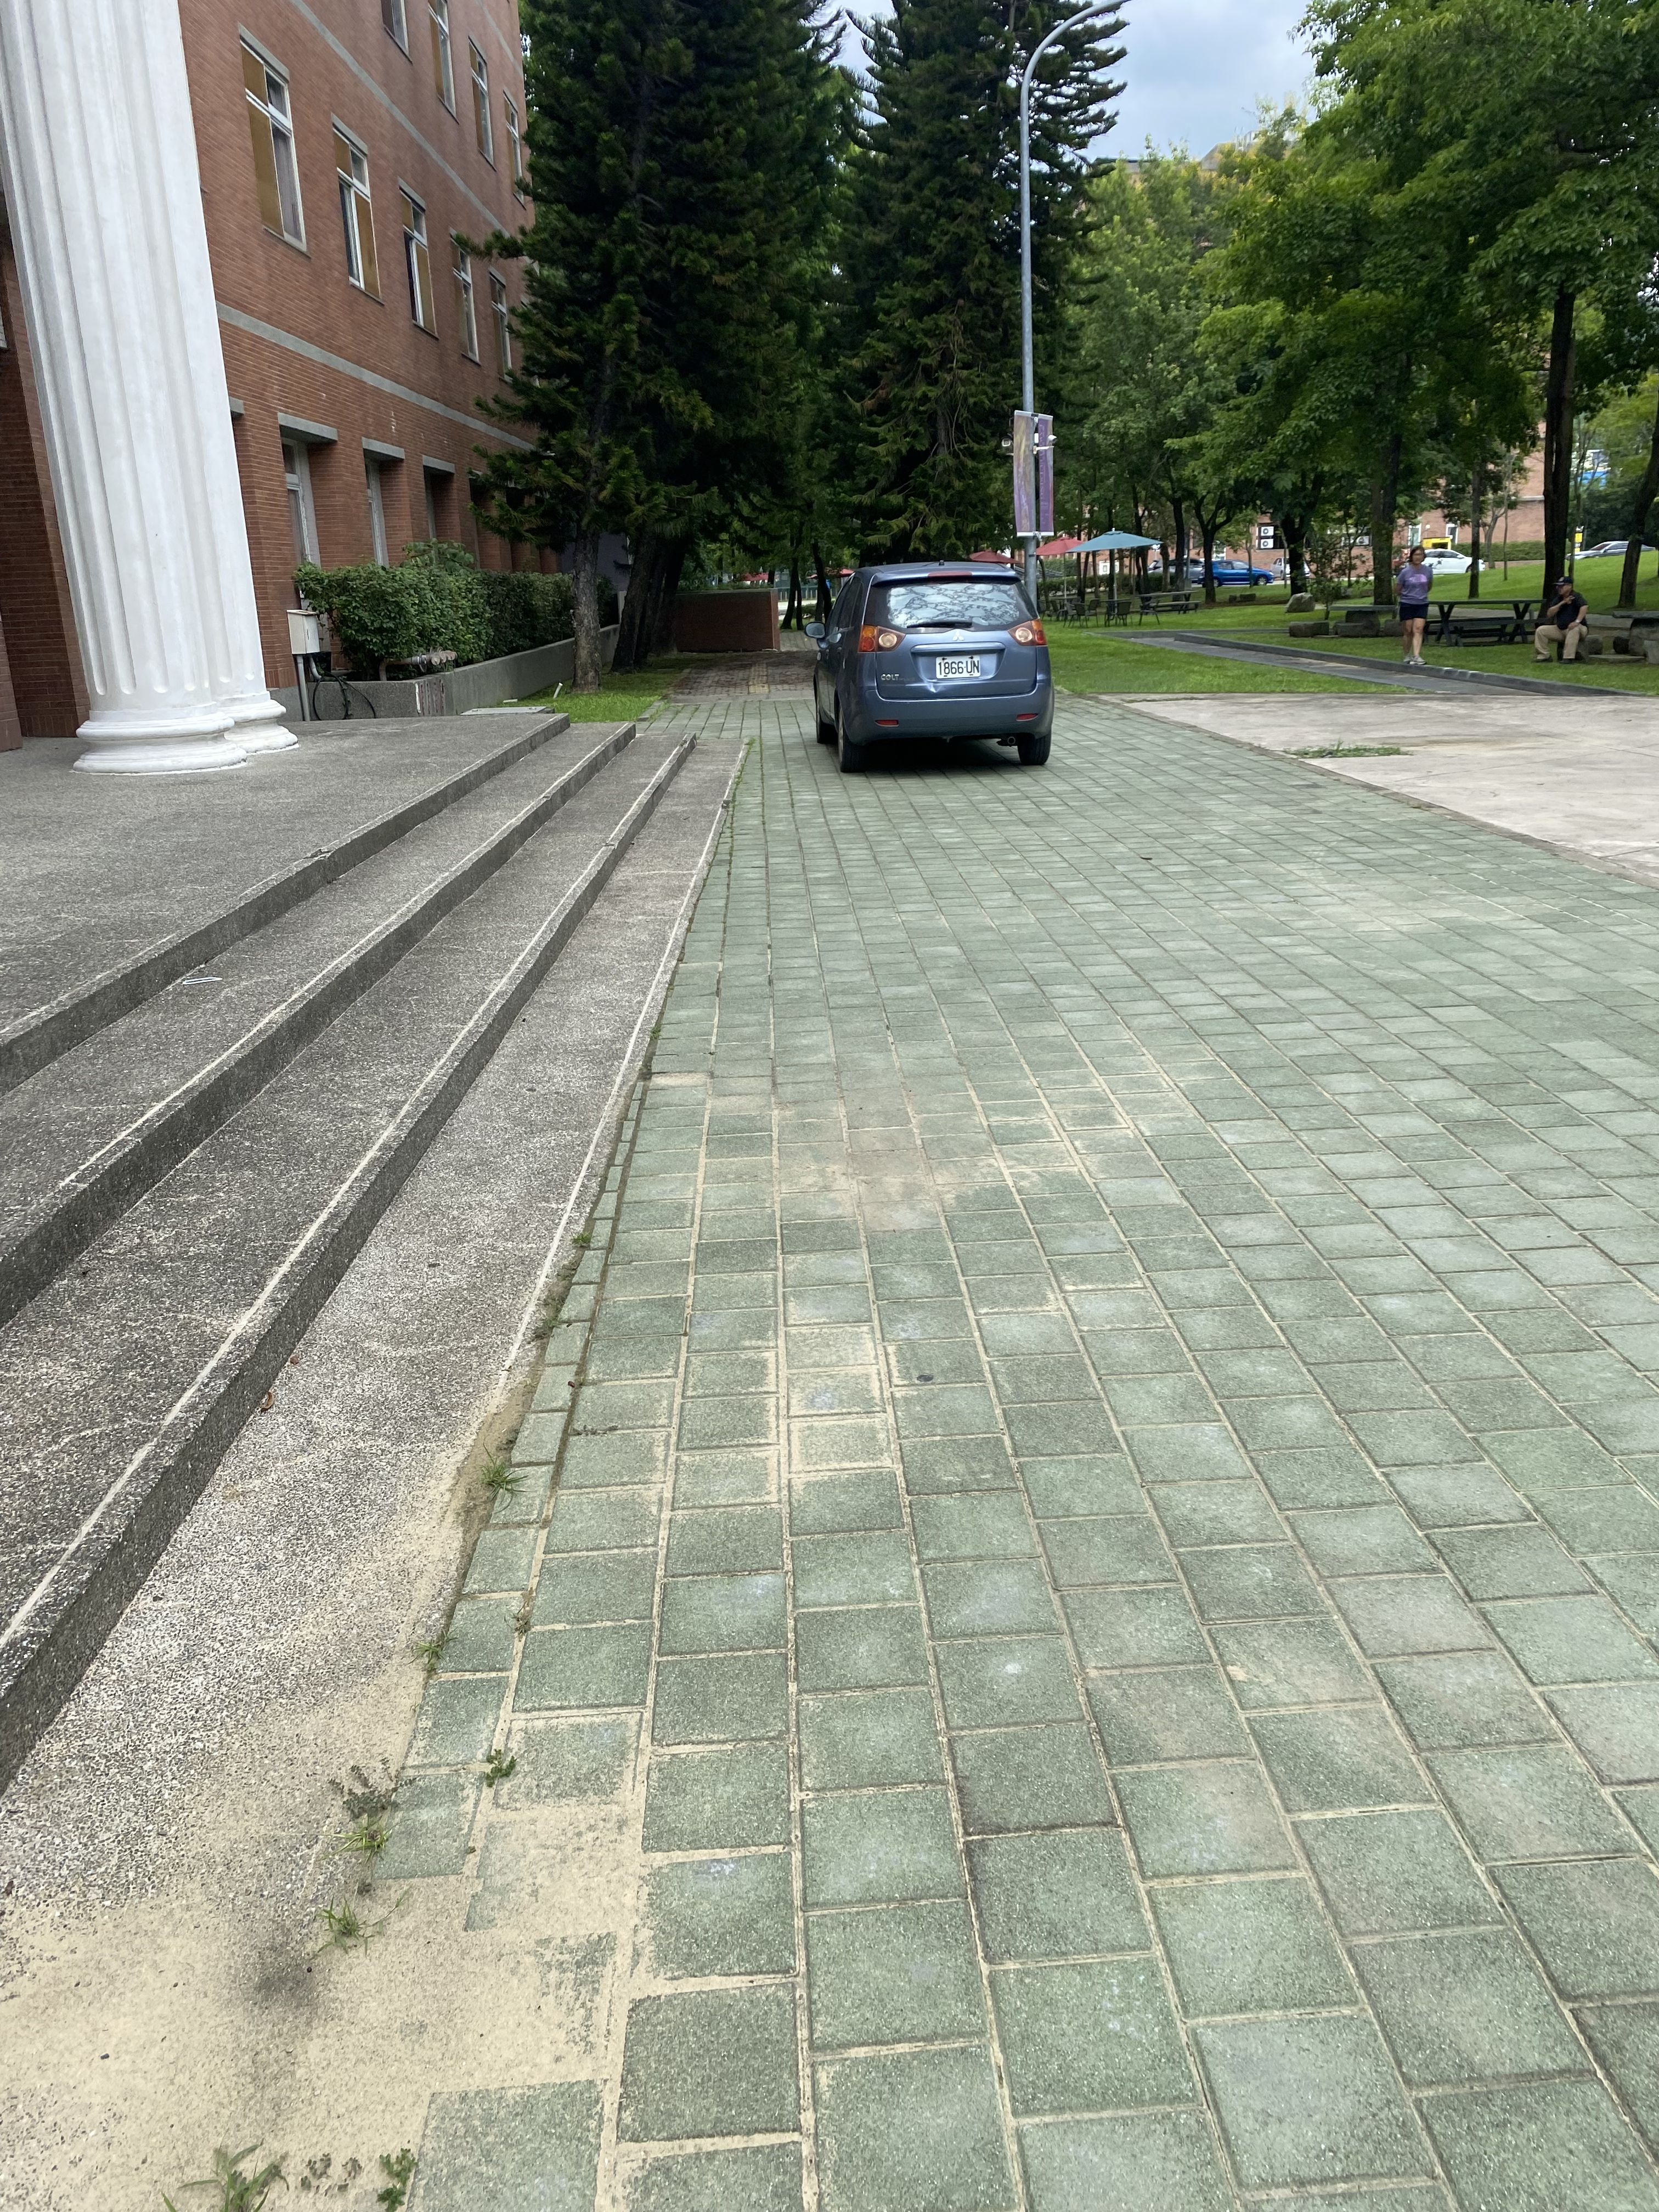sidewalk: (35, 641, 1659, 2212)
